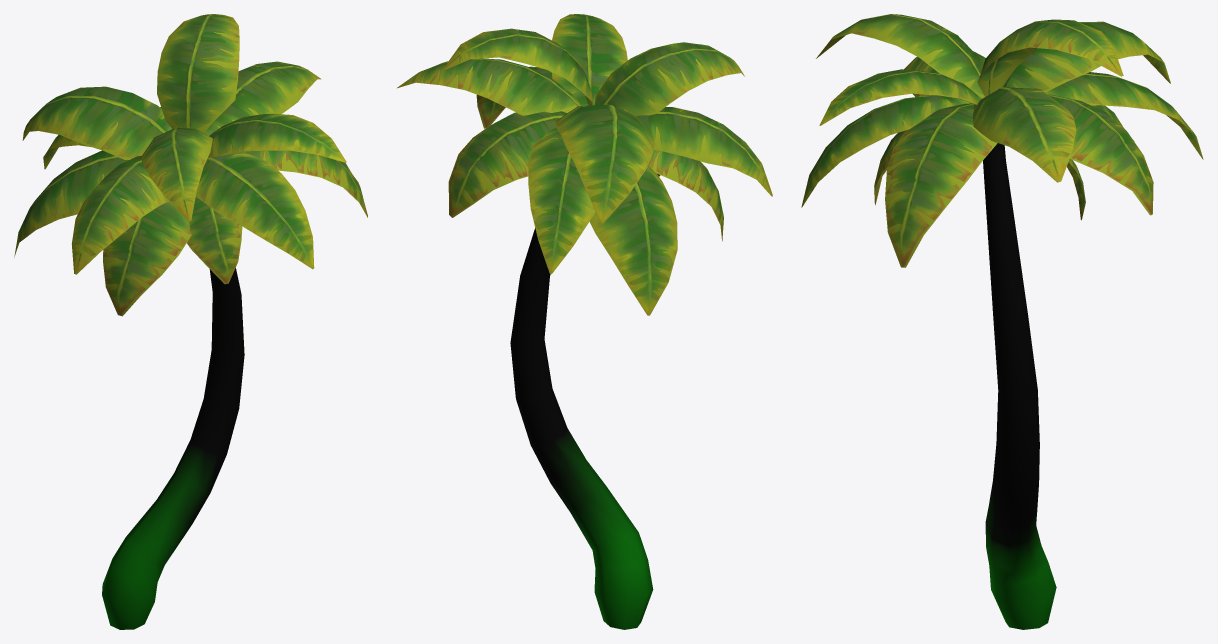
The model's file is P_PalmTree06.obj.
3 renders of one model, left to right at view 1: azimuth 30°, elevation 25°; view 2: azimuth 150°, elevation 25°; view 3: azimuth 270°, elevation 25°, orthographic. The views are drawn at different scales.
Bounding box in the file's own units: 7.26 × 12.74 × 7.12.
